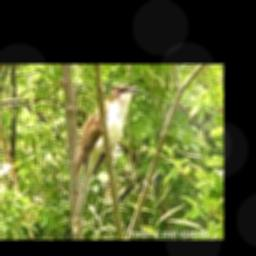Cuckoo: (73, 85, 140, 173)
